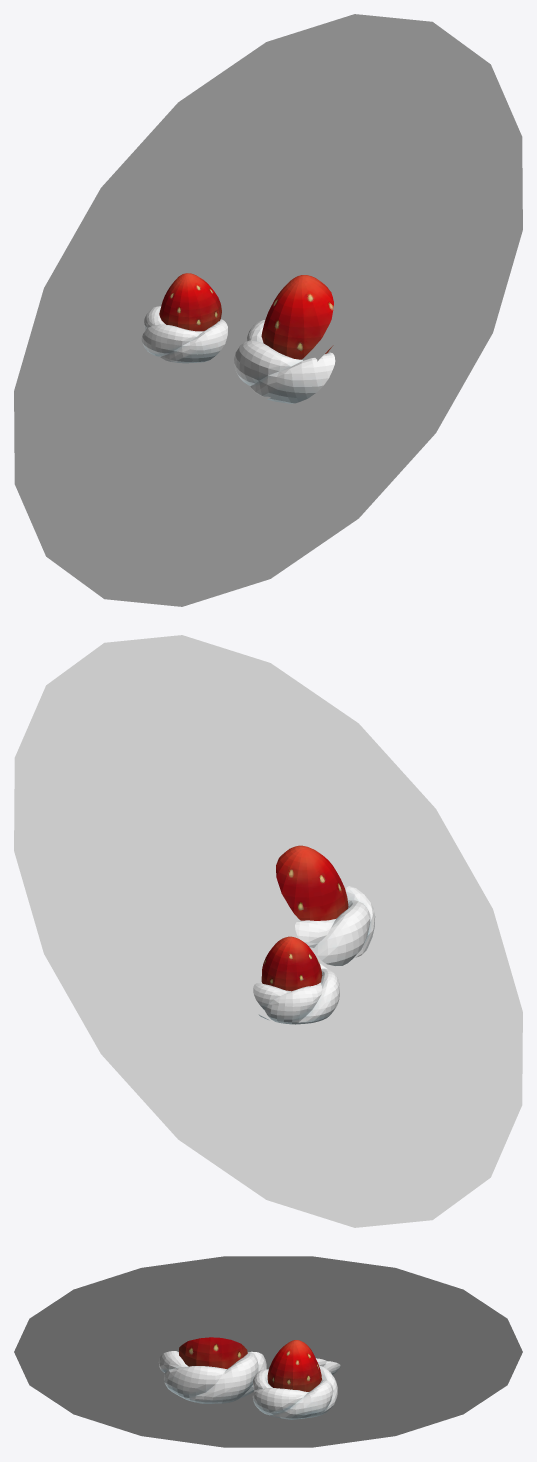
The model's file is pref_fx_kill_055701_lv3.fbx.
3 views of the same model, one above another, from view 1: azimuth 30°, elevation 25°; view 2: azimuth 150°, elevation 25°; view 3: azimuth 270°, elevation 25° (orthographic). The views are drawn at different scales.
Visible parts, largest first — view 1: sm_glow_01, sm_glow_add, cake1, cake3; view 2: sm_glow_01, sm_glow_add, cake1, cake3; view 3: sm_glow_01, cake1, cake4.
Part boxes in pixels (x1,y1,x2,y2): sm_glow_01: [14, 14, 522, 606]; sm_glow_add: [166, 170, 374, 410]; cake1: [234, 275, 335, 403]; cake3: [141, 273, 227, 363]; sm_glow_01: [14, 635, 522, 1227]; sm_glow_add: [162, 791, 374, 1031]; cake1: [276, 845, 375, 965]; cake3: [253, 936, 339, 1024]; sm_glow_01: [14, 1256, 522, 1447]; cake1: [158, 1337, 266, 1403]; cake4: [252, 1340, 337, 1419].
Size of what is drawn, in the model's own units: 3.07 by 3.35 by 4.61.
3 materials, 1 textured.
